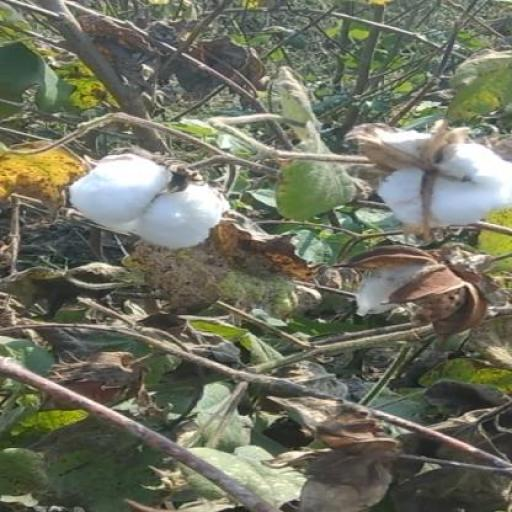cotton_ready: (61, 136, 258, 264), (352, 118, 512, 255)
